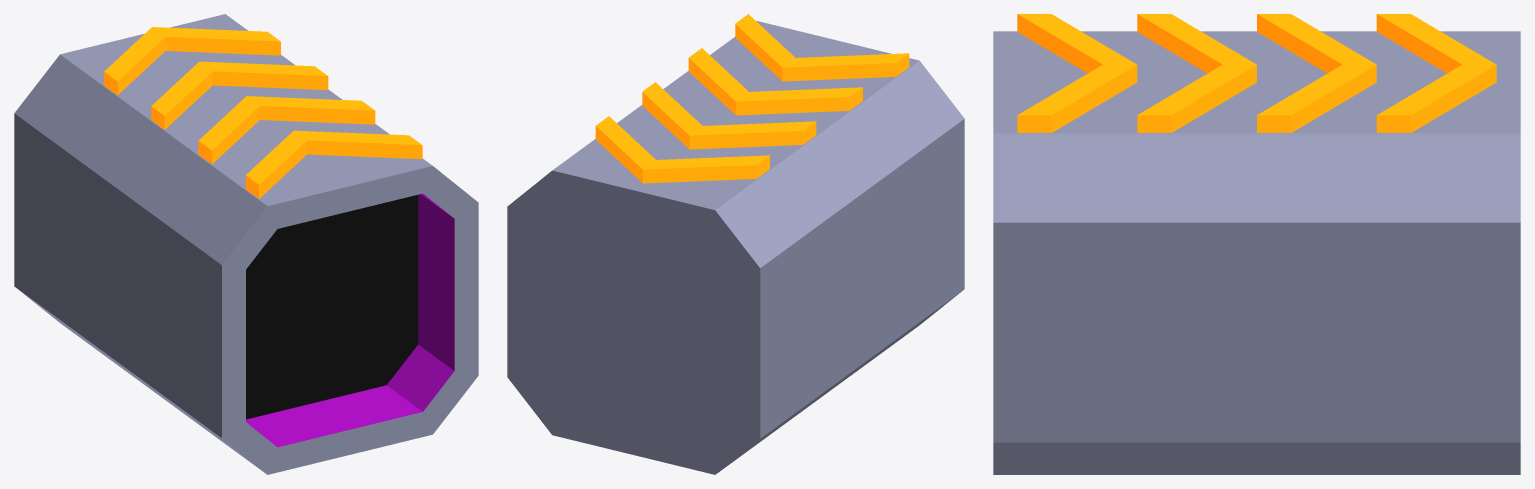
File: Intake.fbx
3 views of the same model, side by side, from view 1: azimuth 30°, elevation 25°; view 2: azimuth 150°, elevation 25°; view 3: azimuth 270°, elevation 25° (orthographic). The views are drawn at different scales.
Parts seen in each view (by area): view 1: Merger_LOD0; view 2: Merger_LOD0; view 3: Merger_LOD0.
Boxes of the visible parts, x1=… form: Merger_LOD0: x1=14, y1=14, x2=478, y2=474; Merger_LOD0: x1=507, y1=14, x2=964, y2=474; Merger_LOD0: x1=993, y1=14, x2=1520, y2=474.
Size of what is drawn, in the model's own units: 220 by 232 by 308.
